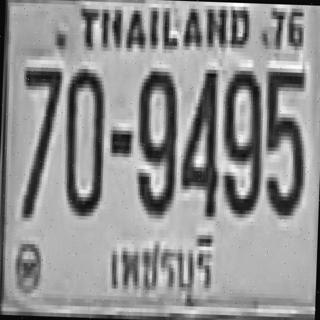N00: (61, 64, 104, 212)
N04: (179, 65, 220, 213)
N05: (261, 68, 304, 212)
N07: (17, 63, 60, 214)
N09: (133, 67, 178, 211), (219, 66, 262, 214)
P44: (102, 225, 218, 307)
